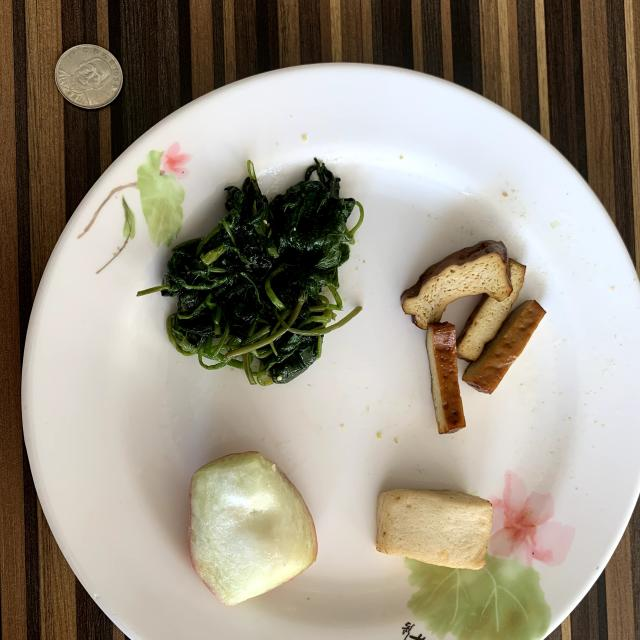coin: (55, 45, 122, 109)
creamy tofu -without sauce-: (376, 489, 492, 570)
firm tofu: (401, 240, 545, 434)
sweet potato leaves: (138, 160, 362, 385)
